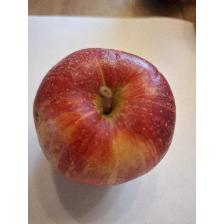Apfel: (30, 44, 182, 190)
